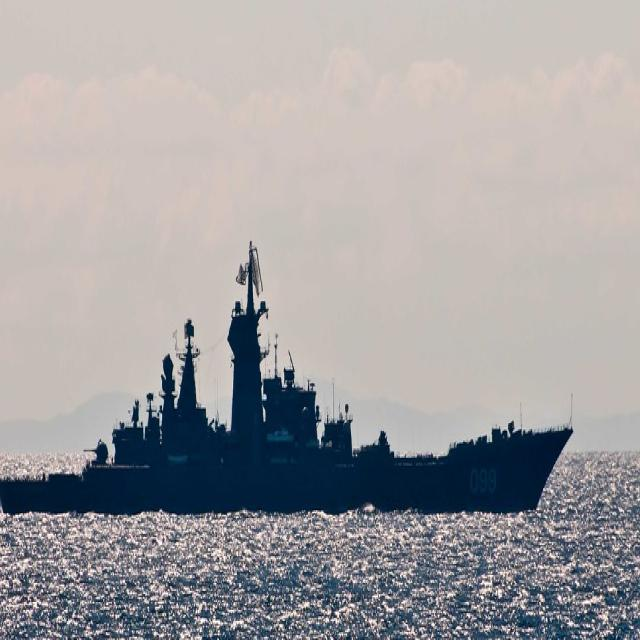navalvessels: (0, 236, 595, 564)
